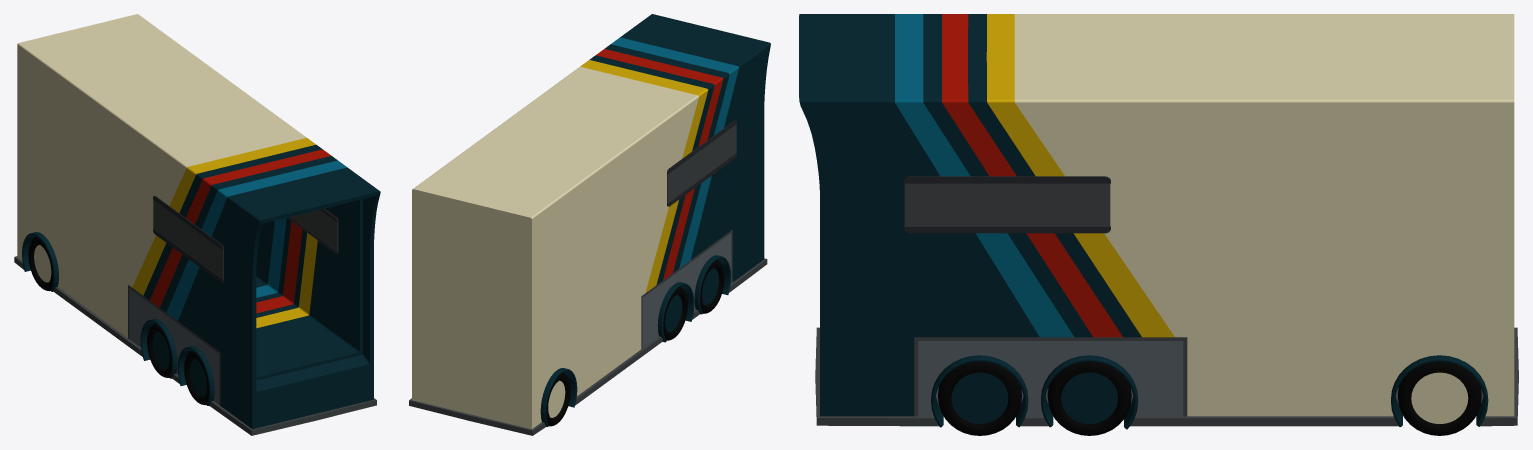
Rendered from TruckForInside.fbx.
The picture shows the model from 3 angles, left to right: view 1: azimuth 30°, elevation 25°; view 2: azimuth 150°, elevation 25°; view 3: azimuth 270°, elevation 25°; orthographic projection. The views are drawn at different scales.
Visible parts, largest first — view 1: TruckMatForInside; view 2: TruckMatForInside; view 3: TruckMatForInside.
Part boxes in pixels (bbox=[...]): TruckMatForInside: bbox=[14, 14, 380, 435]; TruckMatForInside: bbox=[409, 14, 770, 435]; TruckMatForInside: bbox=[799, 14, 1518, 435].
Bounding box in the file's own units: 2.15 × 3.59 × 6.95.
